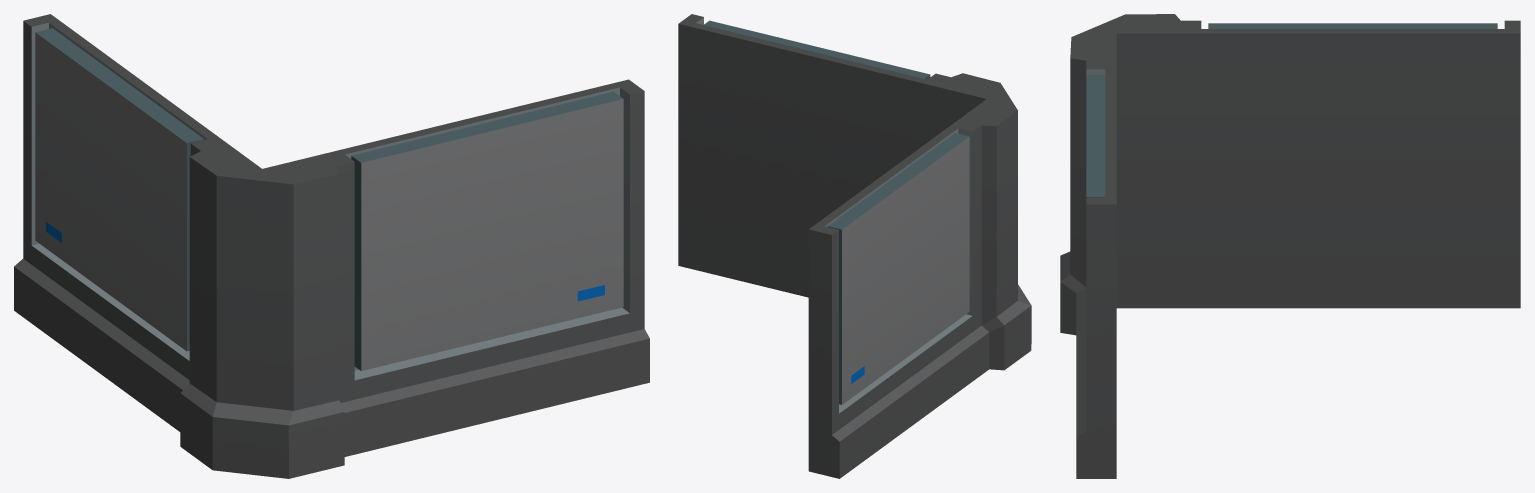
The model's file is Wall_type_B_036.fbx.
3 renders of one model, left to right at view 1: azimuth 30°, elevation 25°; view 2: azimuth 150°, elevation 25°; view 3: azimuth 270°, elevation 25°, orthographic. The views are drawn at different scales.
Visible parts, largest first — view 1: Wall_type_B_036; view 2: Wall_type_B_036; view 3: Wall_type_B_036.
Part boxes in pixels (bbox=[...]): Wall_type_B_036: bbox=[14, 14, 649, 478]; Wall_type_B_036: bbox=[678, 14, 1031, 478]; Wall_type_B_036: bbox=[1060, 14, 1520, 478].
Size of the model in its own units: 228 by 228 by 150.
